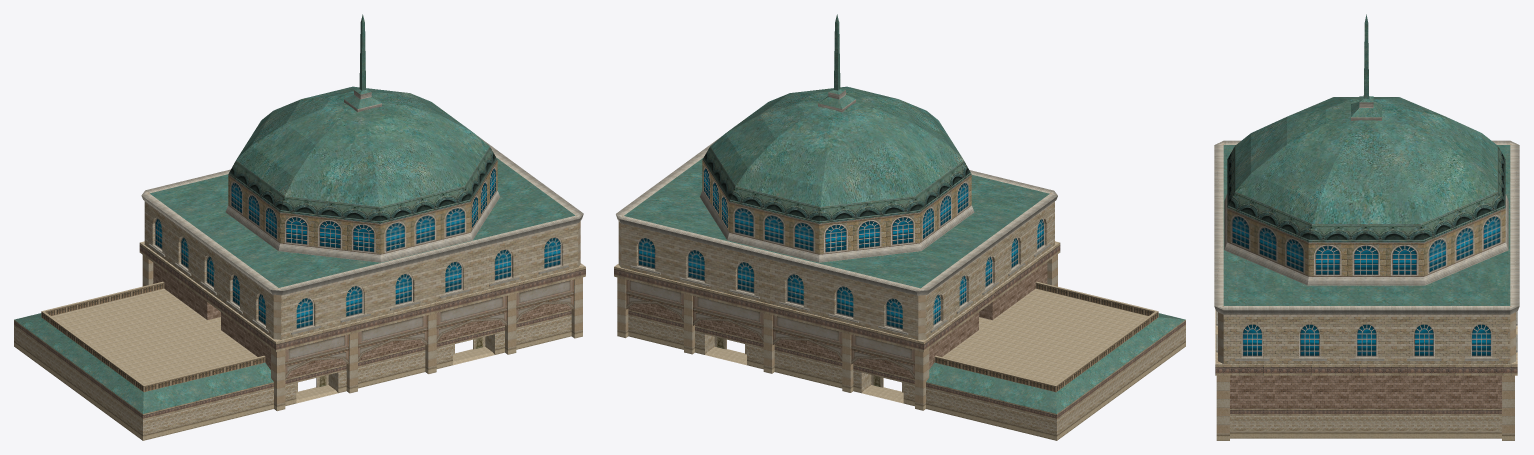
Rendered from mun_nboo_hospital_s01_r0_mesh_l0.fbx.
The picture shows the model from 3 angles, left to right: view 1: azimuth 30°, elevation 25°; view 2: azimuth 150°, elevation 25°; view 3: azimuth 270°, elevation 25°; orthographic projection. The views are drawn at different scales.
Visible parts, largest first — view 1: mesh_node; view 2: mesh_node; view 3: mesh_node.
Boxes of the visible parts, left/top/right/bottom form: mesh_node: left=14, top=14, right=585, bottom=440; mesh_node: left=614, top=14, right=1185, bottom=440; mesh_node: left=1214, top=14, right=1519, bottom=440.
Bounding box in the file's own units: 94.25 × 63.41 × 51.01.
